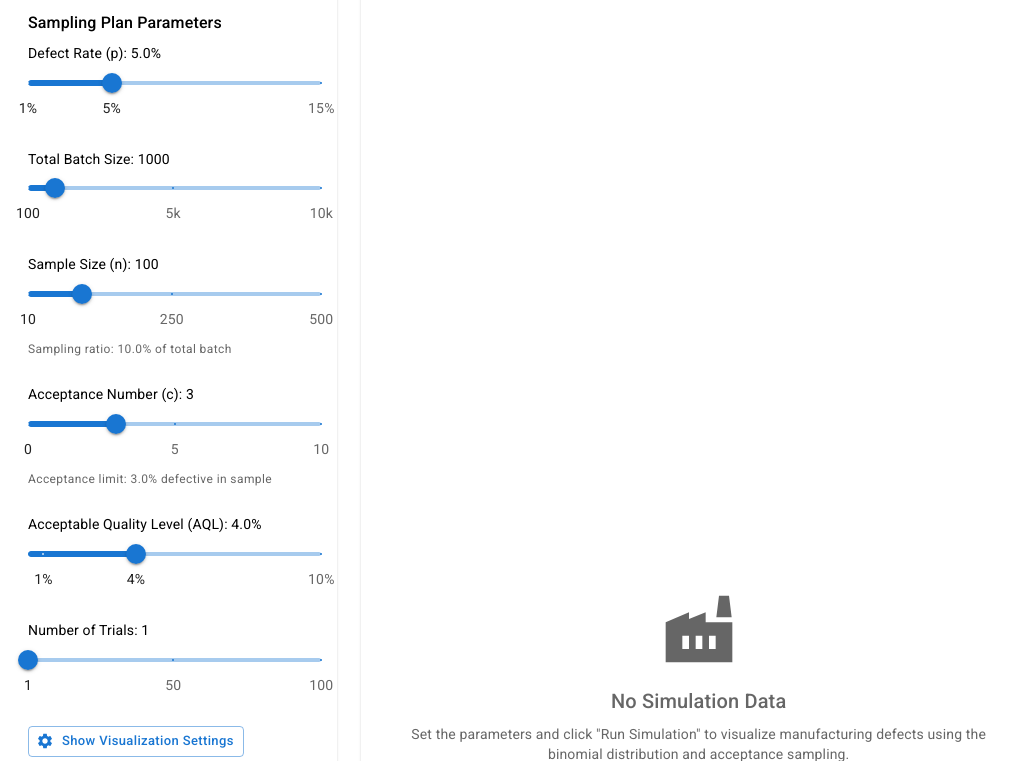
Test case: ManufacturingDefectsD3 Component › renders visualization settings controls
Click the button "Show Visualization Settings".
click(136, 741)  # box x1=28 y1=726 x2=244 y2=757
(page scrolled)
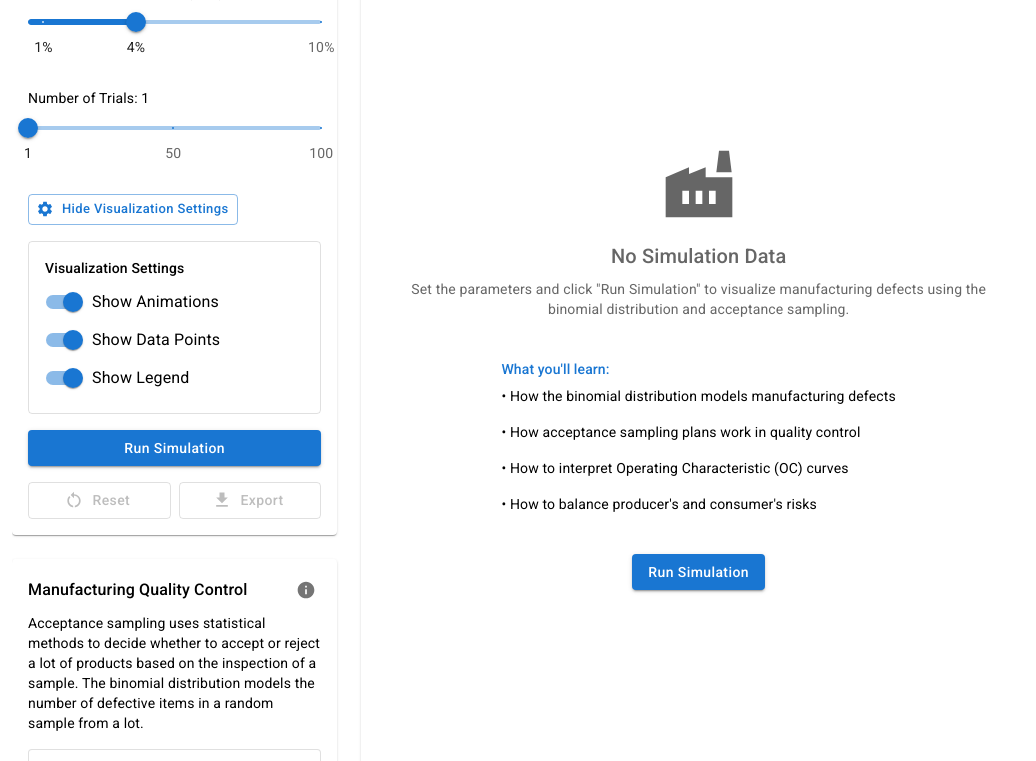
Check: the text "Show Animations" is shown, box x1=92 y1=290 x2=219 y2=314
Check: the text "Show Data Points" is shown, box x1=92 y1=328 x2=220 y2=352
Check: the text "Show Legend" is shown, box x1=92 y1=366 x2=190 y2=390
